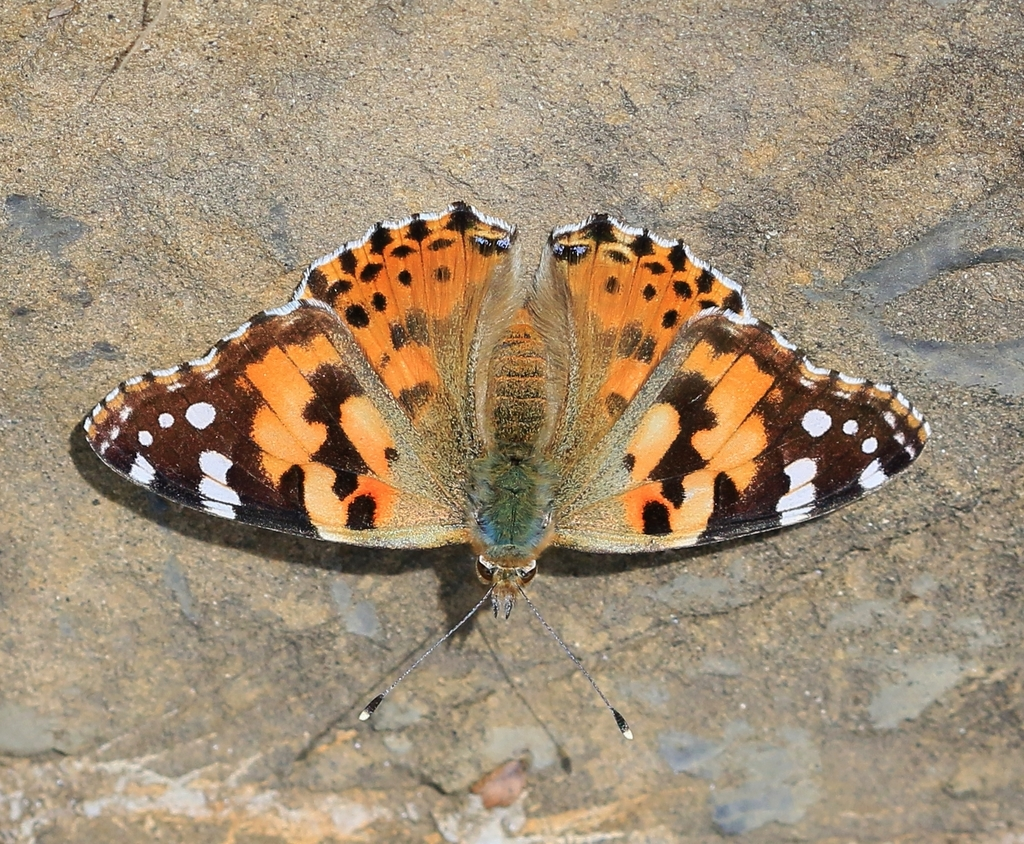Butterfly: (77, 191, 939, 647)
